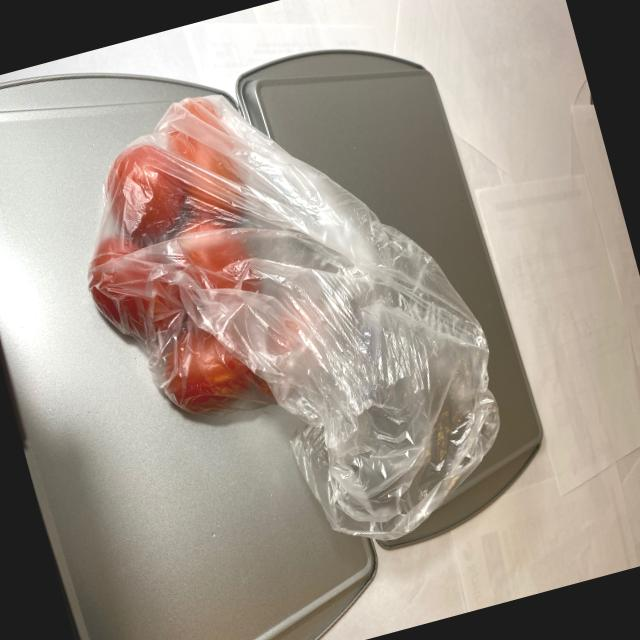tomato: (45, 81, 336, 457)
